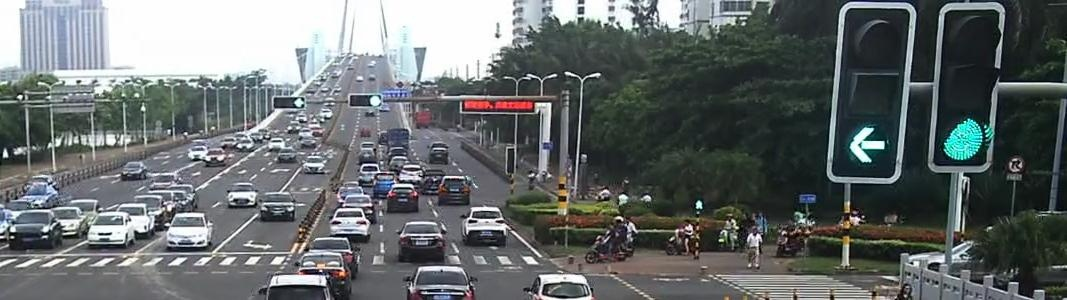green: (941, 115, 987, 163), (371, 93, 381, 110)
greenleft: (844, 126, 889, 166), (293, 96, 306, 110)
greenpeople: (695, 199, 707, 213)
